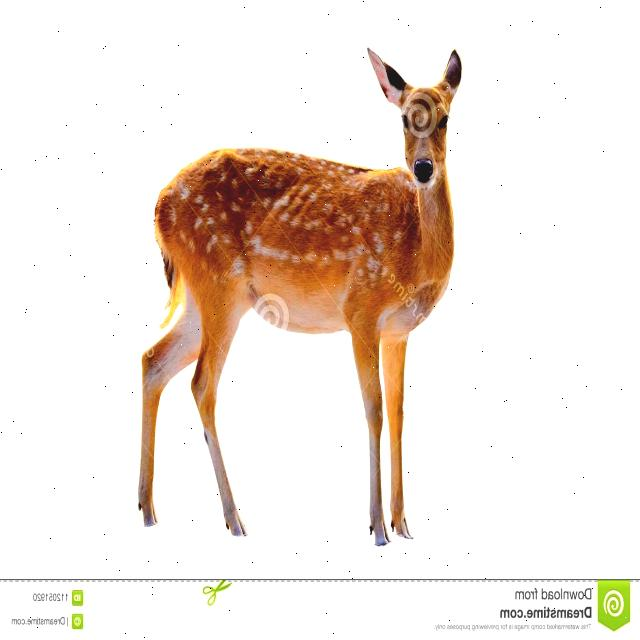deer: (114, 43, 470, 545)
